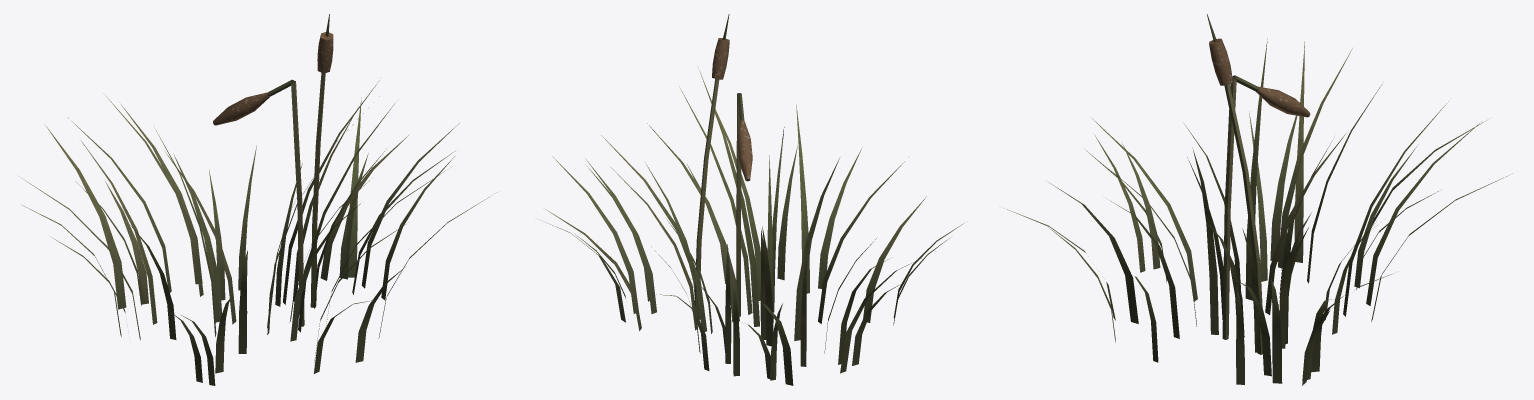
File: fm_reeds_cattail_c.glb
The picture shows the model from 3 angles, left to right: view 1: azimuth 30°, elevation 25°; view 2: azimuth 150°, elevation 25°; view 3: azimuth 270°, elevation 25°; orthographic projection. The views are drawn at different scales.
Visible parts, largest first — view 1: fm_reeds_cattail_c; view 2: fm_reeds_cattail_c; view 3: fm_reeds_cattail_c.
Part boxes in pixels (x1=…): fm_reeds_cattail_c: x1=22, y1=14, x2=488, y2=385; fm_reeds_cattail_c: x1=538, y1=14, x2=963, y2=385; fm_reeds_cattail_c: x1=1007, y1=14, x2=1513, y2=385.
Size of the model in its own units: 1.37 by 0.9506 by 1.34.
Materials: 1 (1 with a texture image).
